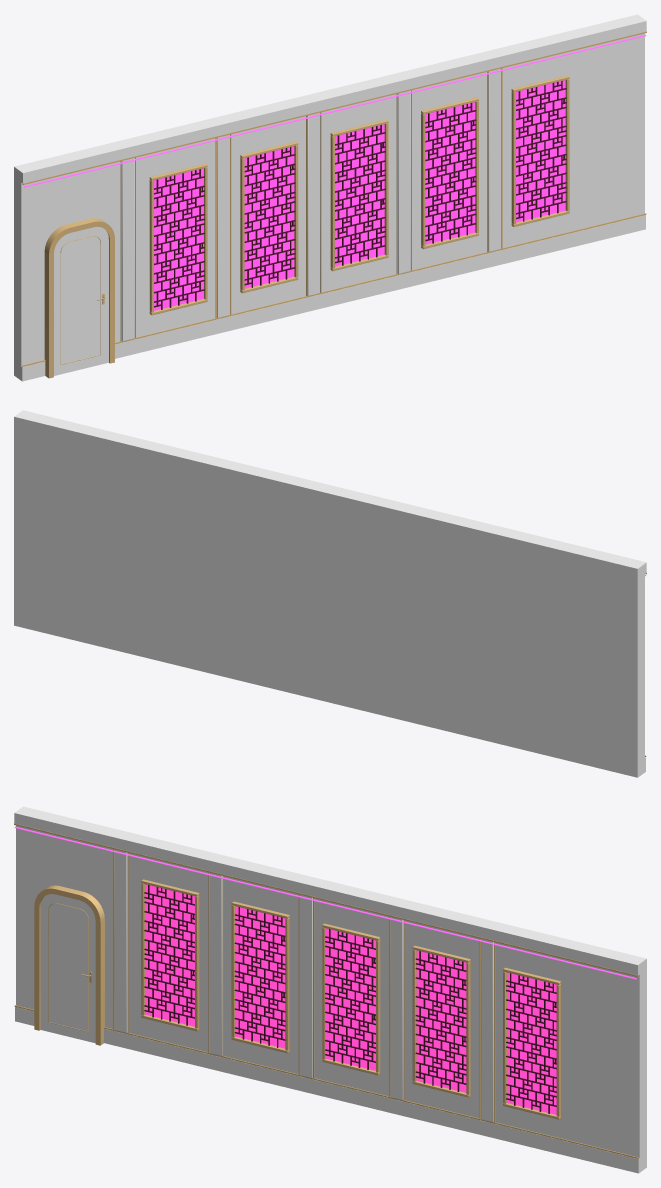
Rendered from JAC_33_Parede_Esquerda.glb.
3 renders of one model, top to bottom at view 1: azimuth 30°, elevation 25°; view 2: azimuth 150°, elevation 25°; view 3: azimuth 330°, elevation 25°, orthographic.
Parts seen in each view (by area): view 1: JAC_33_Parede_Esquerda; view 2: JAC_33_Parede_Esquerda; view 3: JAC_33_Parede_Esquerda.
Boxes of the visible parts, box(x1,y1,x2,y2) form: JAC_33_Parede_Esquerda: box(14, 14, 646, 381); JAC_33_Parede_Esquerda: box(14, 410, 646, 777); JAC_33_Parede_Esquerda: box(14, 806, 646, 1173).
Bounding box in the file's own units: 10 × 3.2 × 0.355.
